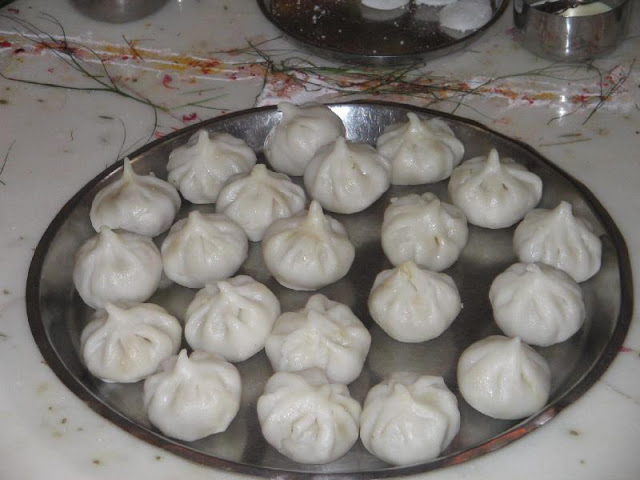modak: (477, 243, 583, 341), (363, 374, 471, 468), (260, 370, 374, 457), (254, 196, 360, 285), (138, 348, 244, 437), (172, 273, 282, 358), (513, 190, 610, 284), (378, 112, 475, 195), (74, 298, 188, 368), (162, 118, 260, 199), (274, 309, 375, 387), (459, 333, 552, 414), (448, 148, 540, 225), (369, 259, 453, 343), (98, 153, 181, 237), (216, 161, 310, 235), (385, 198, 473, 277), (83, 231, 164, 314), (260, 106, 352, 170), (310, 144, 396, 208), (170, 215, 246, 277)
